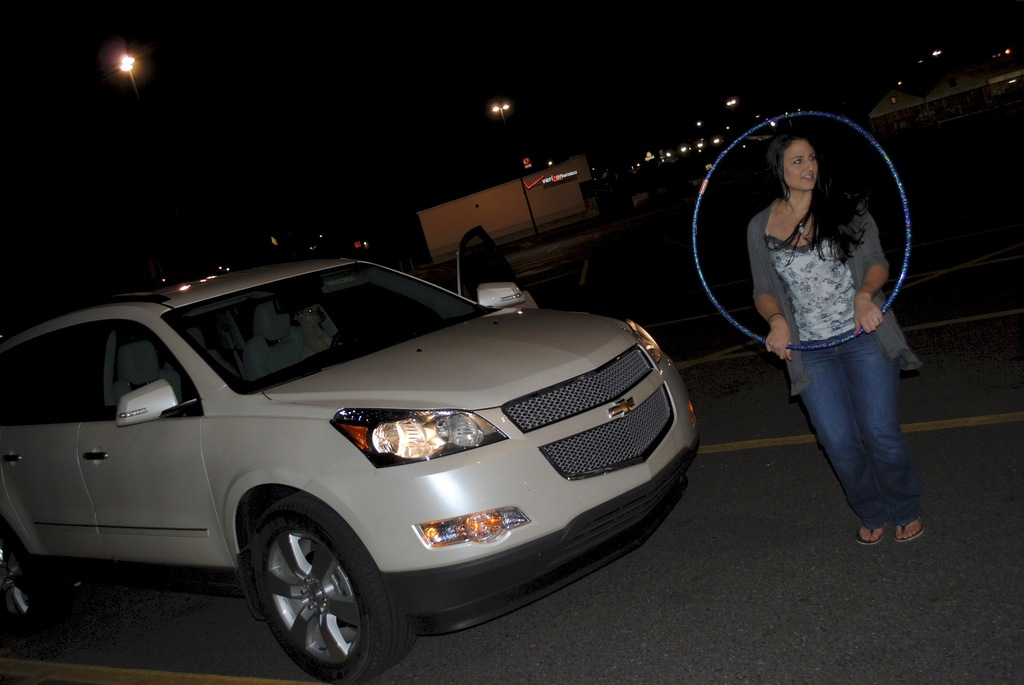Car: (21, 255, 707, 661)
